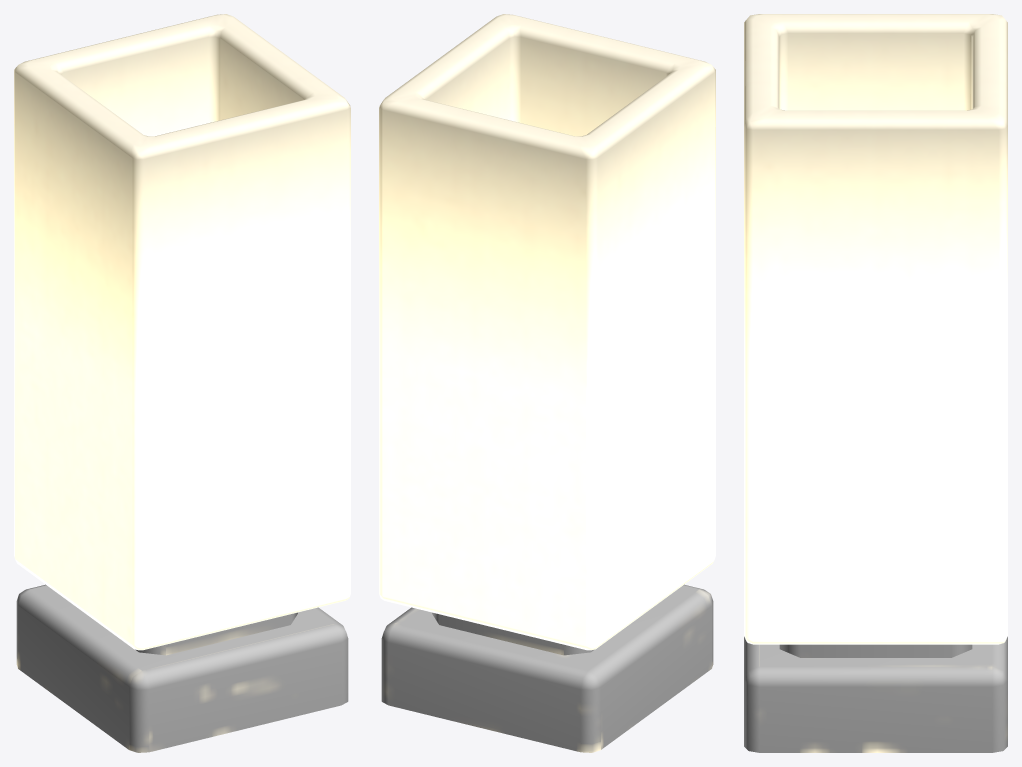
The model's file is cubeLamp.gltf.
3 views of the same model, side by side, from view 1: azimuth 30°, elevation 25°; view 2: azimuth 150°, elevation 25°; view 3: azimuth 270°, elevation 25° (orthographic). The views are drawn at different scales.
Visible parts, largest first — view 1: cubeLamp_mesh; view 2: cubeLamp_mesh; view 3: cubeLamp_mesh.
Boxes of the visible parts, box(x1,y1,x2,y2) form: cubeLamp_mesh: box(14, 14, 350, 752); cubeLamp_mesh: box(379, 14, 715, 752); cubeLamp_mesh: box(744, 14, 1007, 752).
Size of what is drawn, in the model's own units: 0.2 by 0.5277 by 0.2.
